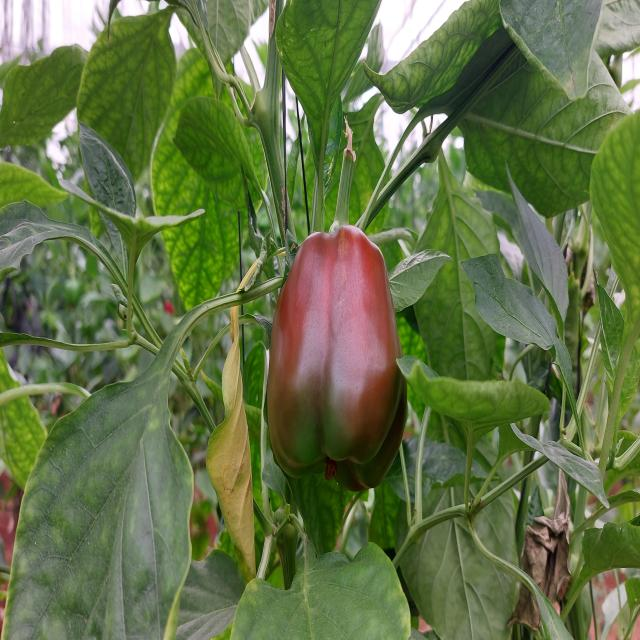BrownishRed--Can-be-Harvested: (267, 228, 402, 504)
